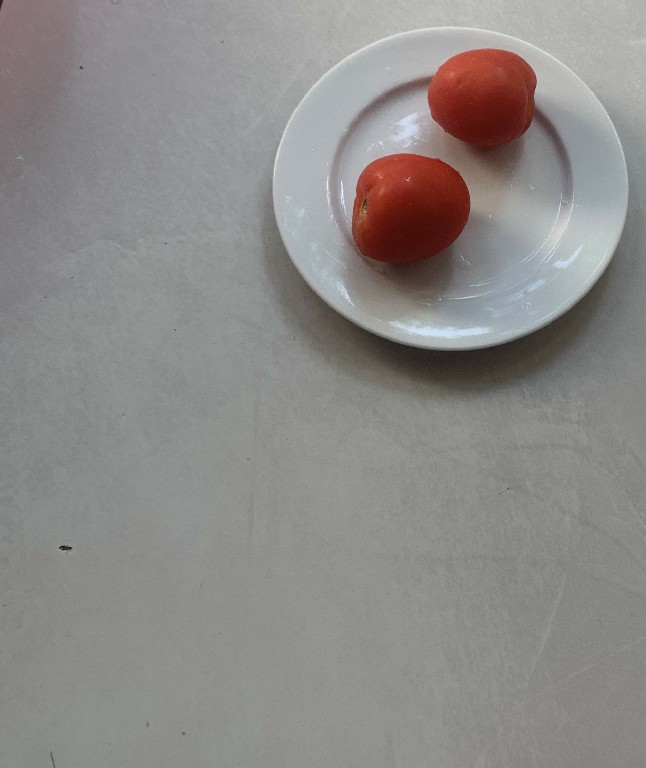OK: (349, 151, 479, 272), (416, 43, 548, 151)
